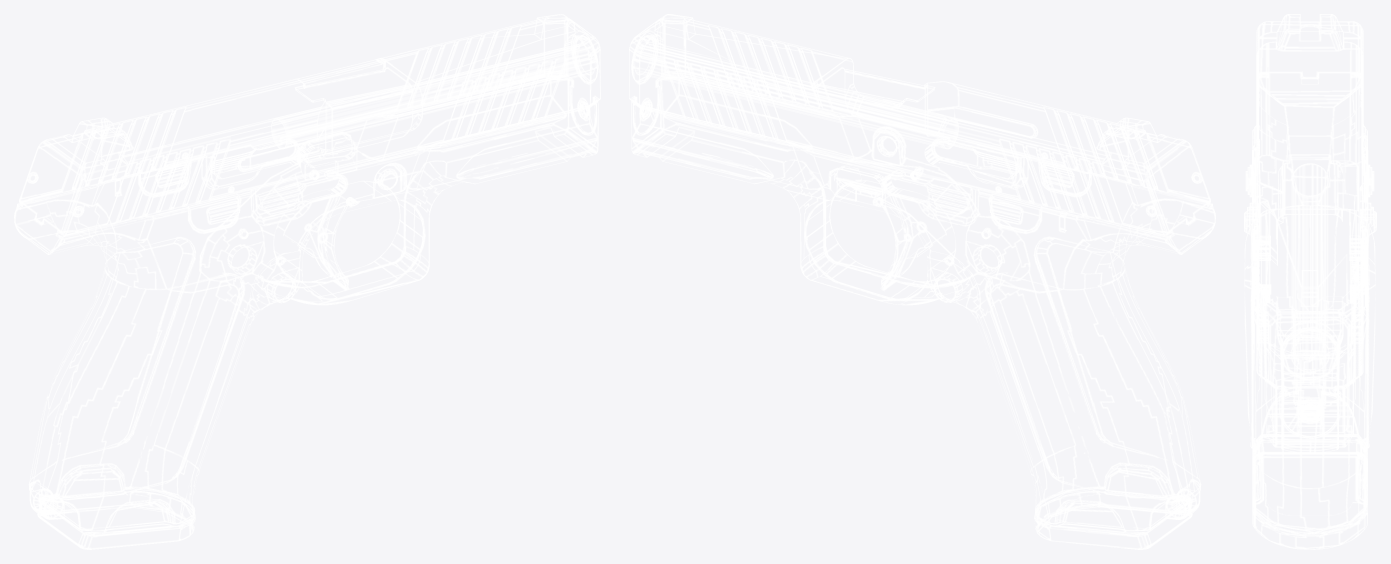
The model's file is plk_simple.glb.
The picture shows the model from 3 angles, left to right: view 1: azimuth 30°, elevation 25°; view 2: azimuth 150°, elevation 25°; view 3: azimuth 270°, elevation 25°; orthographic projection. The views are drawn at different scales.
Visible parts, largest first — view 1: PLK LP Baked; view 2: PLK LP Baked; view 3: PLK LP Baked.
Part boxes in pixels (x1,y1,x2,y2): PLK LP Baked: (14, 14, 600, 549); PLK LP Baked: (629, 14, 1215, 549); PLK LP Baked: (1244, 14, 1376, 549).
Size of the model in its own units: 3.6 by 2.58 by 0.644.
1 material, 1 textured.
